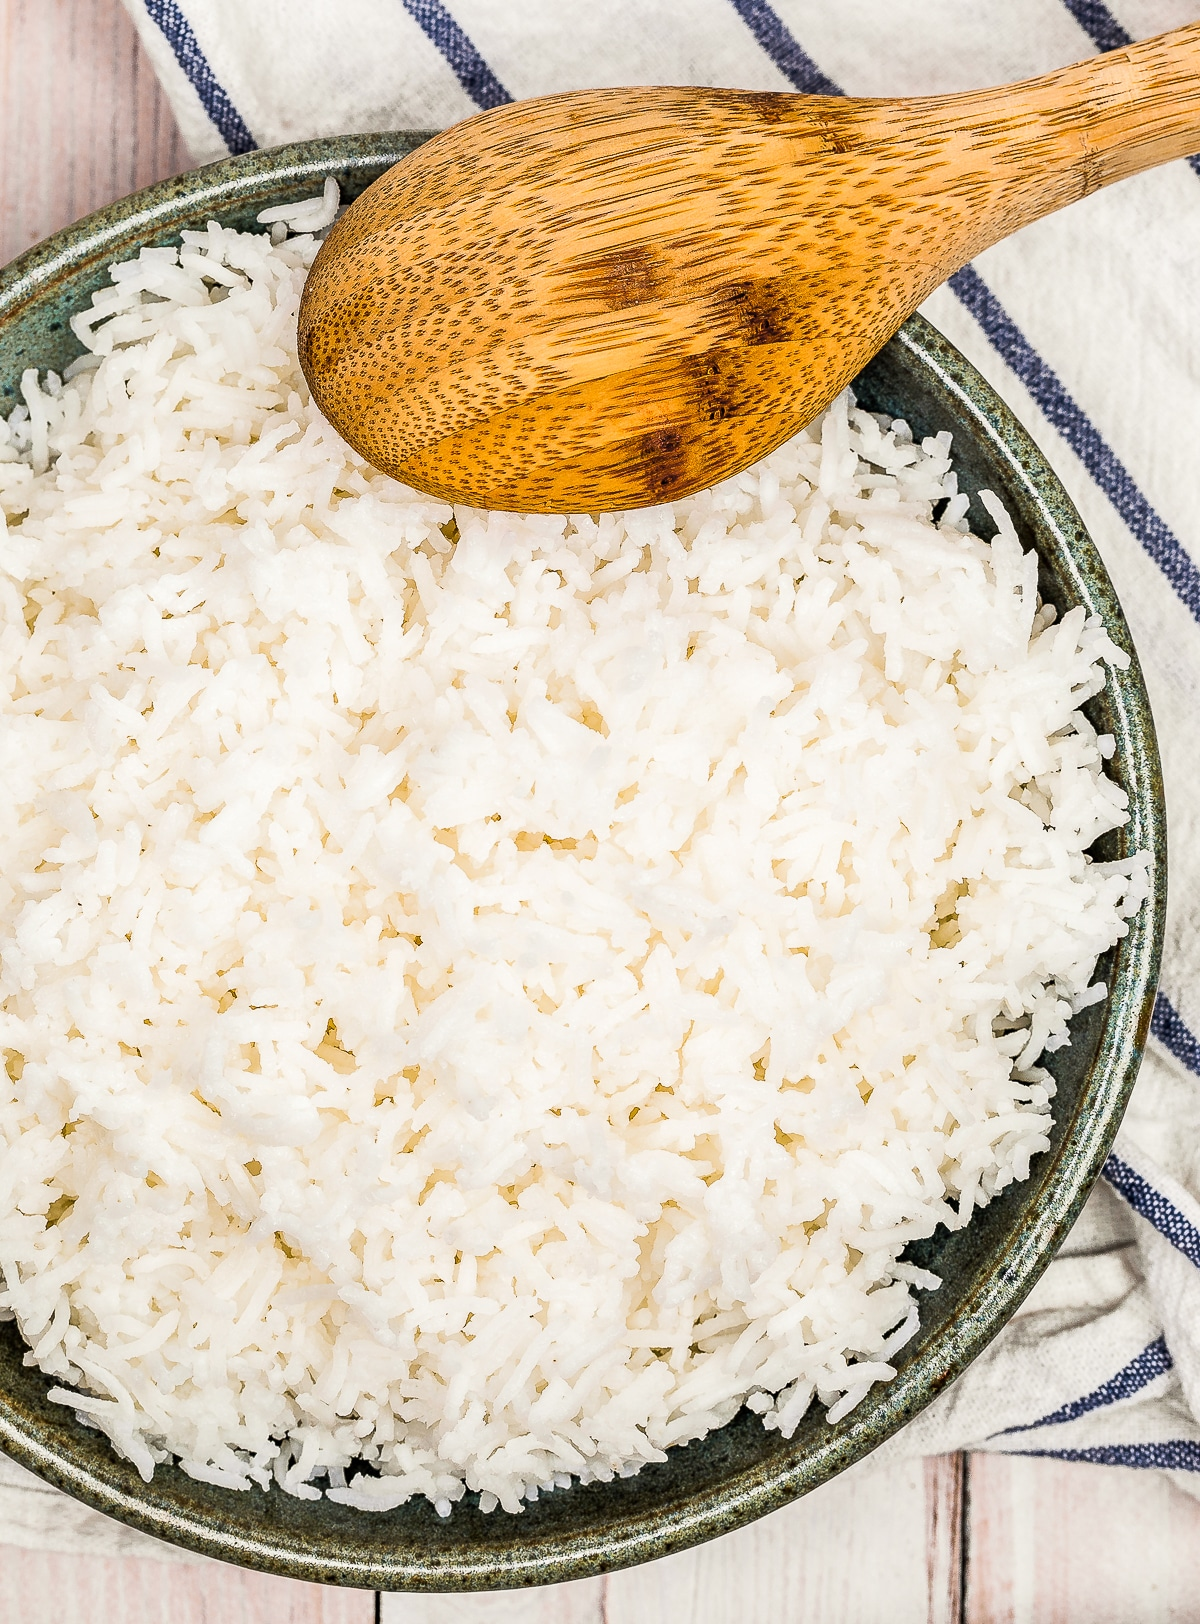rice: (34, 503, 1068, 1492)
